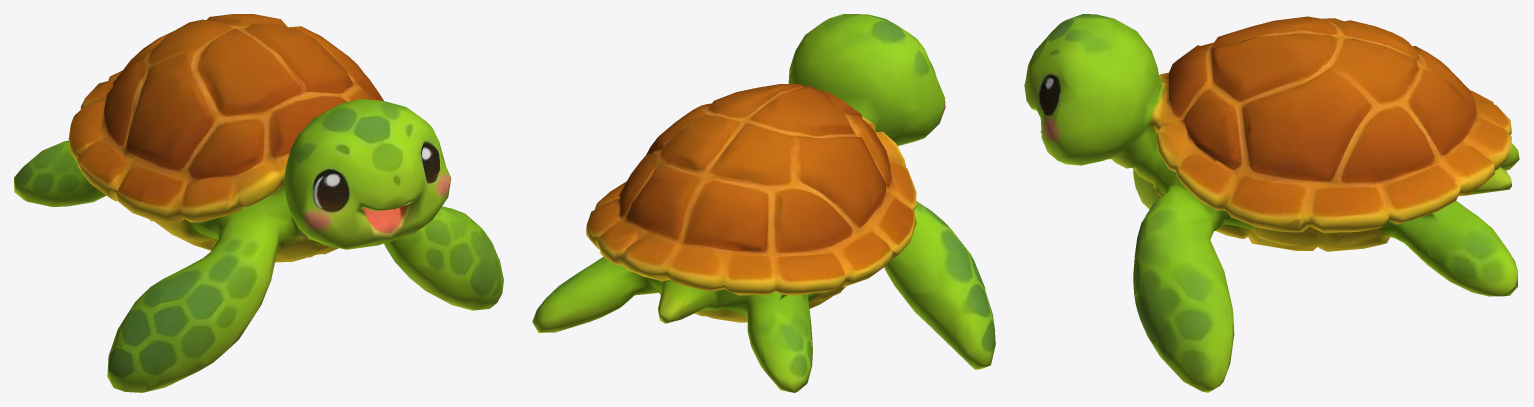
The model's file is turtle.glb.
The picture shows the model from 3 angles, left to right: view 1: azimuth 30°, elevation 25°; view 2: azimuth 150°, elevation 25°; view 3: azimuth 270°, elevation 25°; orthographic projection. The views are drawn at different scales.
Parts seen in each view (by area): view 1: tripo_node_3b0e4ae4-14c6-4f1d-80a0-6a287a59d4c8; view 2: tripo_node_3b0e4ae4-14c6-4f1d-80a0-6a287a59d4c8; view 3: tripo_node_3b0e4ae4-14c6-4f1d-80a0-6a287a59d4c8.
Part boxes in pixels (x1=…): tripo_node_3b0e4ae4-14c6-4f1d-80a0-6a287a59d4c8: x1=14, y1=14, x2=503, y2=392; tripo_node_3b0e4ae4-14c6-4f1d-80a0-6a287a59d4c8: x1=532, y1=14, x2=995, y2=392; tripo_node_3b0e4ae4-14c6-4f1d-80a0-6a287a59d4c8: x1=1024, y1=14, x2=1519, y2=392.
Bounding box in the file's own units: 0.901 × 0.6257 × 1.
1 material, 1 textured.
